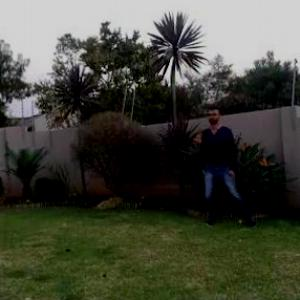follow: (199, 101, 236, 226)
